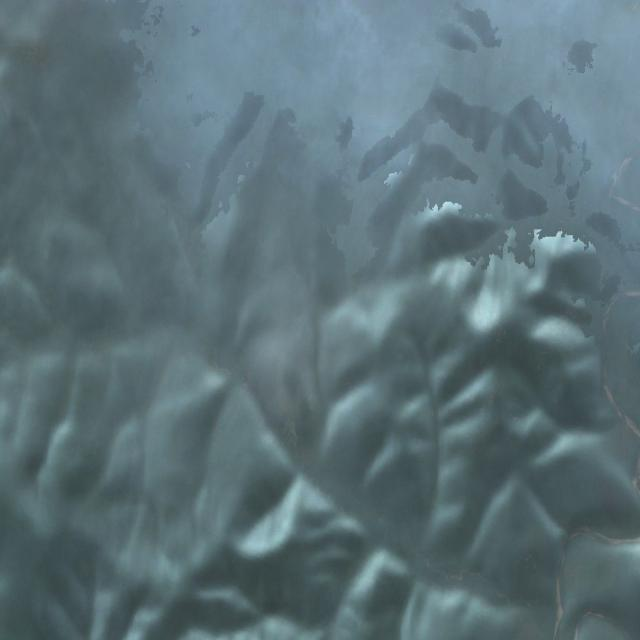fire: (275, 388, 319, 462)
